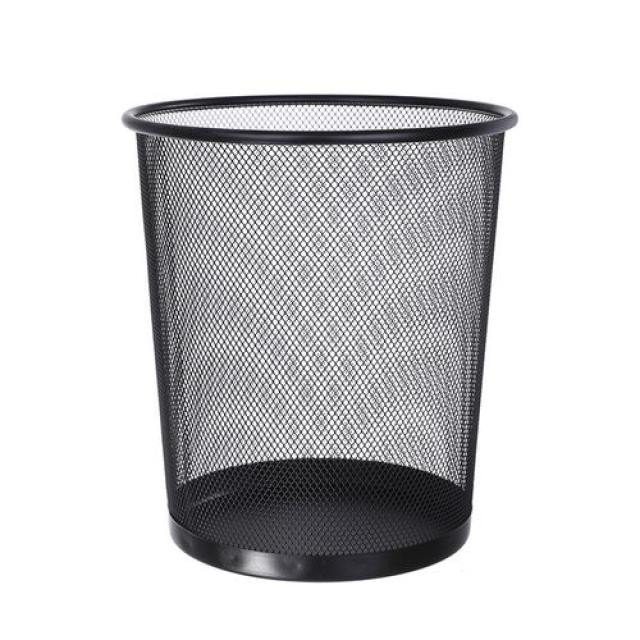dustbin: (122, 88, 520, 586)
